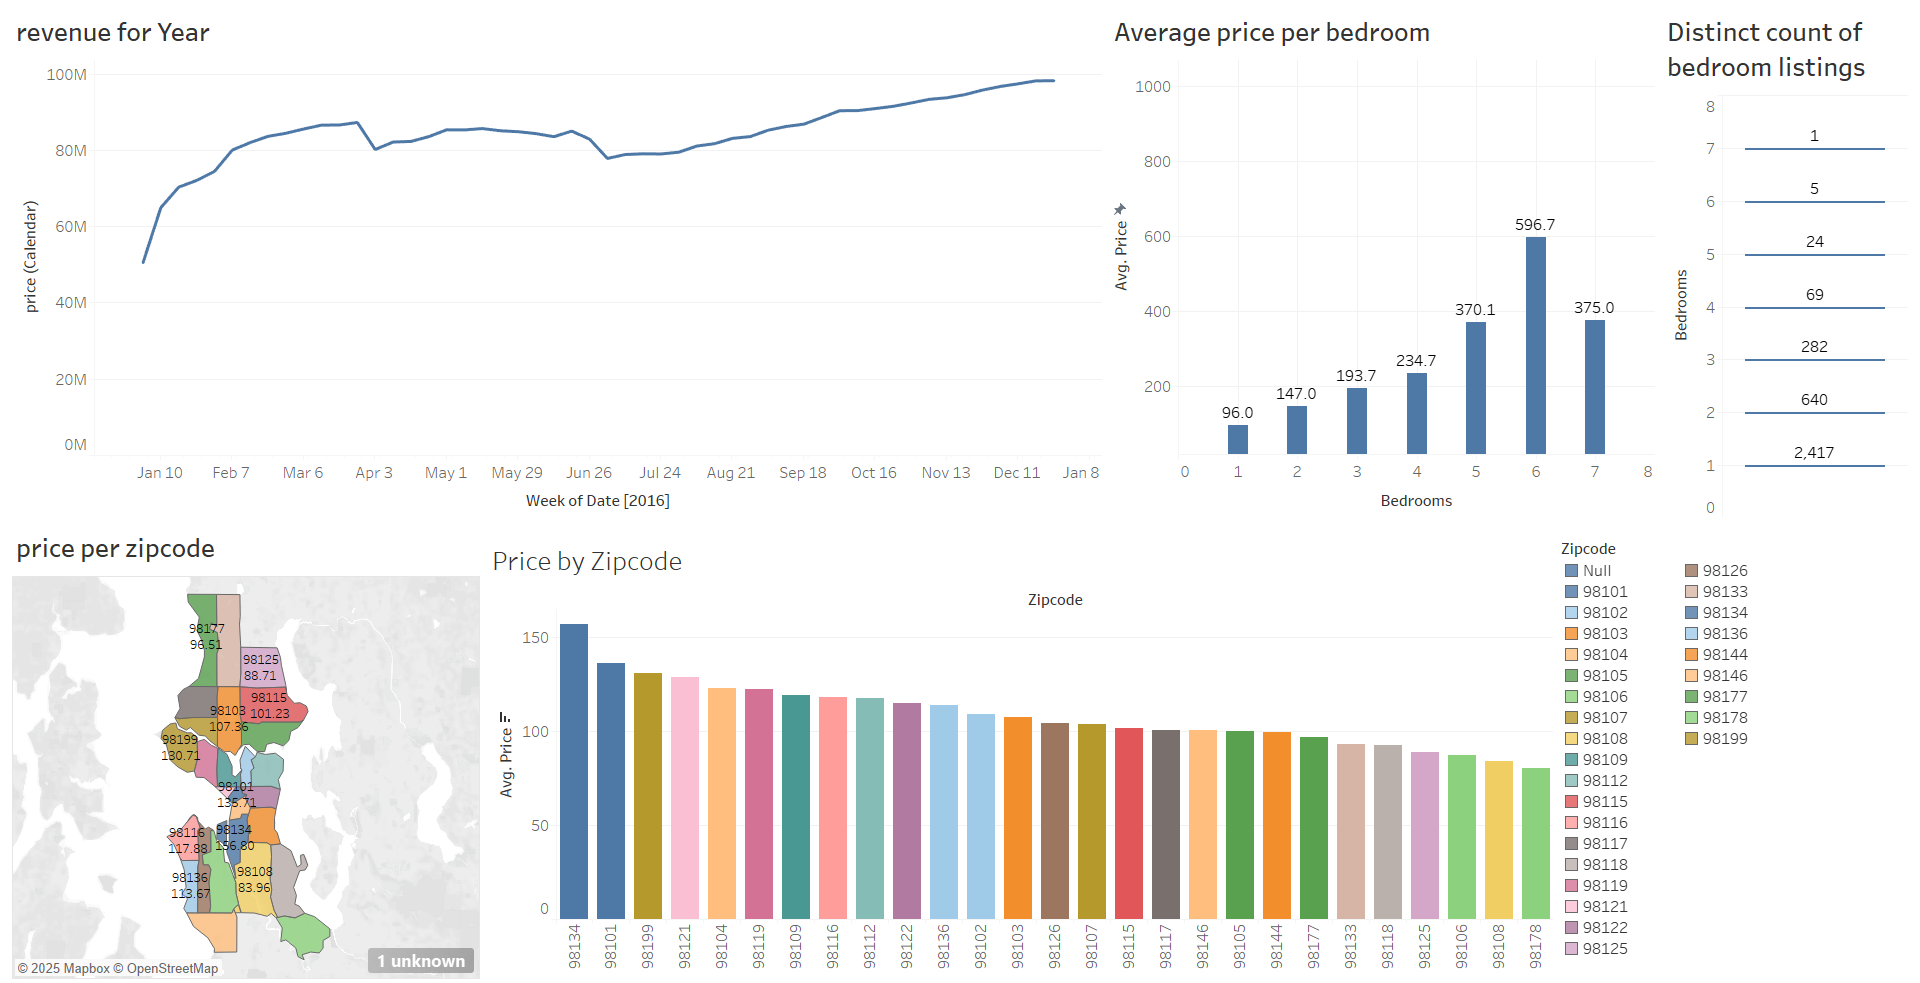

The page's visual inventory and layout, read from the dashboard file:
{"tool":"tableau","page":{"name":"Dashboard 1","canvas":[1000,1000],"units":"permille","ordinal":0},"visuals":[{"type":"worksheet","title":"Sheet 3","mark":"Automatic","rows":["price (Calendar)"],"cols":["date"],"box":[4.7,10,571.2,518.1]},{"type":"worksheet","title":"Sheet 4","mark":"Bar","rows":["price"],"cols":["bedrooms"],"box":[575.9,10,287.6,518.1]},{"type":"worksheet","title":"Sheet 5","mark":"Automatic","rows":["bedrooms"],"box":[863.5,10,131.8,518.1]},{"type":"worksheet","title":"Sheet 2","mark":"Multipolygon","box":[4.7,528.1,247.5,461.9]},{"type":"legend","title":"Sheet 2","param":"[federated.17nkxeh1ummokn11cfabd1a60o9x].[none:zipcode:ok]","box":[810.8,540,184.5,450]},{"type":"worksheet","title":"Sheet 1","mark":"Automatic","rows":["price"],"cols":["zipcode"],"box":[252.2,540.3,558.6,449.7]}]}

Visuals, with their boxes on the dashboard's canvas, which has no fixed pixel size, in thousandths of its width and height (x1, y1, x2, y2). These are canvas units, not pixel positions in the 1920x983 screenshot, which may show the page scaled, cropped or inside an application window:
"Sheet 3" worksheet: [left=5, top=10, right=576, bottom=528]
"Sheet 4" worksheet (Bar marks): [left=576, top=10, right=864, bottom=528]
"Sheet 5" worksheet: [left=864, top=10, right=995, bottom=528]
"Sheet 2" worksheet (Multipolygon marks): [left=5, top=528, right=252, bottom=990]
"Sheet 2" legend: [left=811, top=540, right=995, bottom=990]
"Sheet 1" worksheet: [left=252, top=540, right=811, bottom=990]
